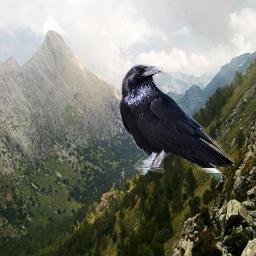Crow: (119, 64, 235, 182)
